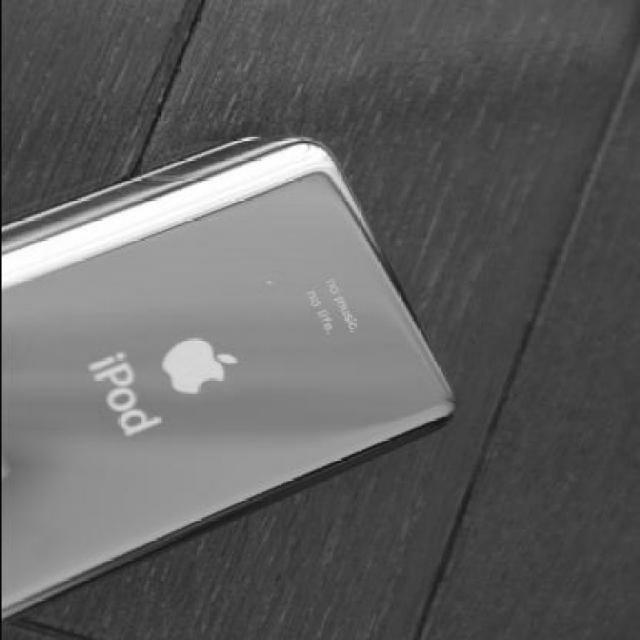fake: (0, 126, 460, 626)
